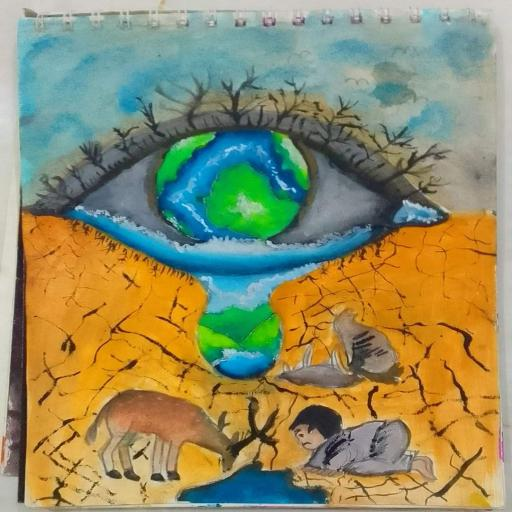person: (280, 405, 450, 484)
